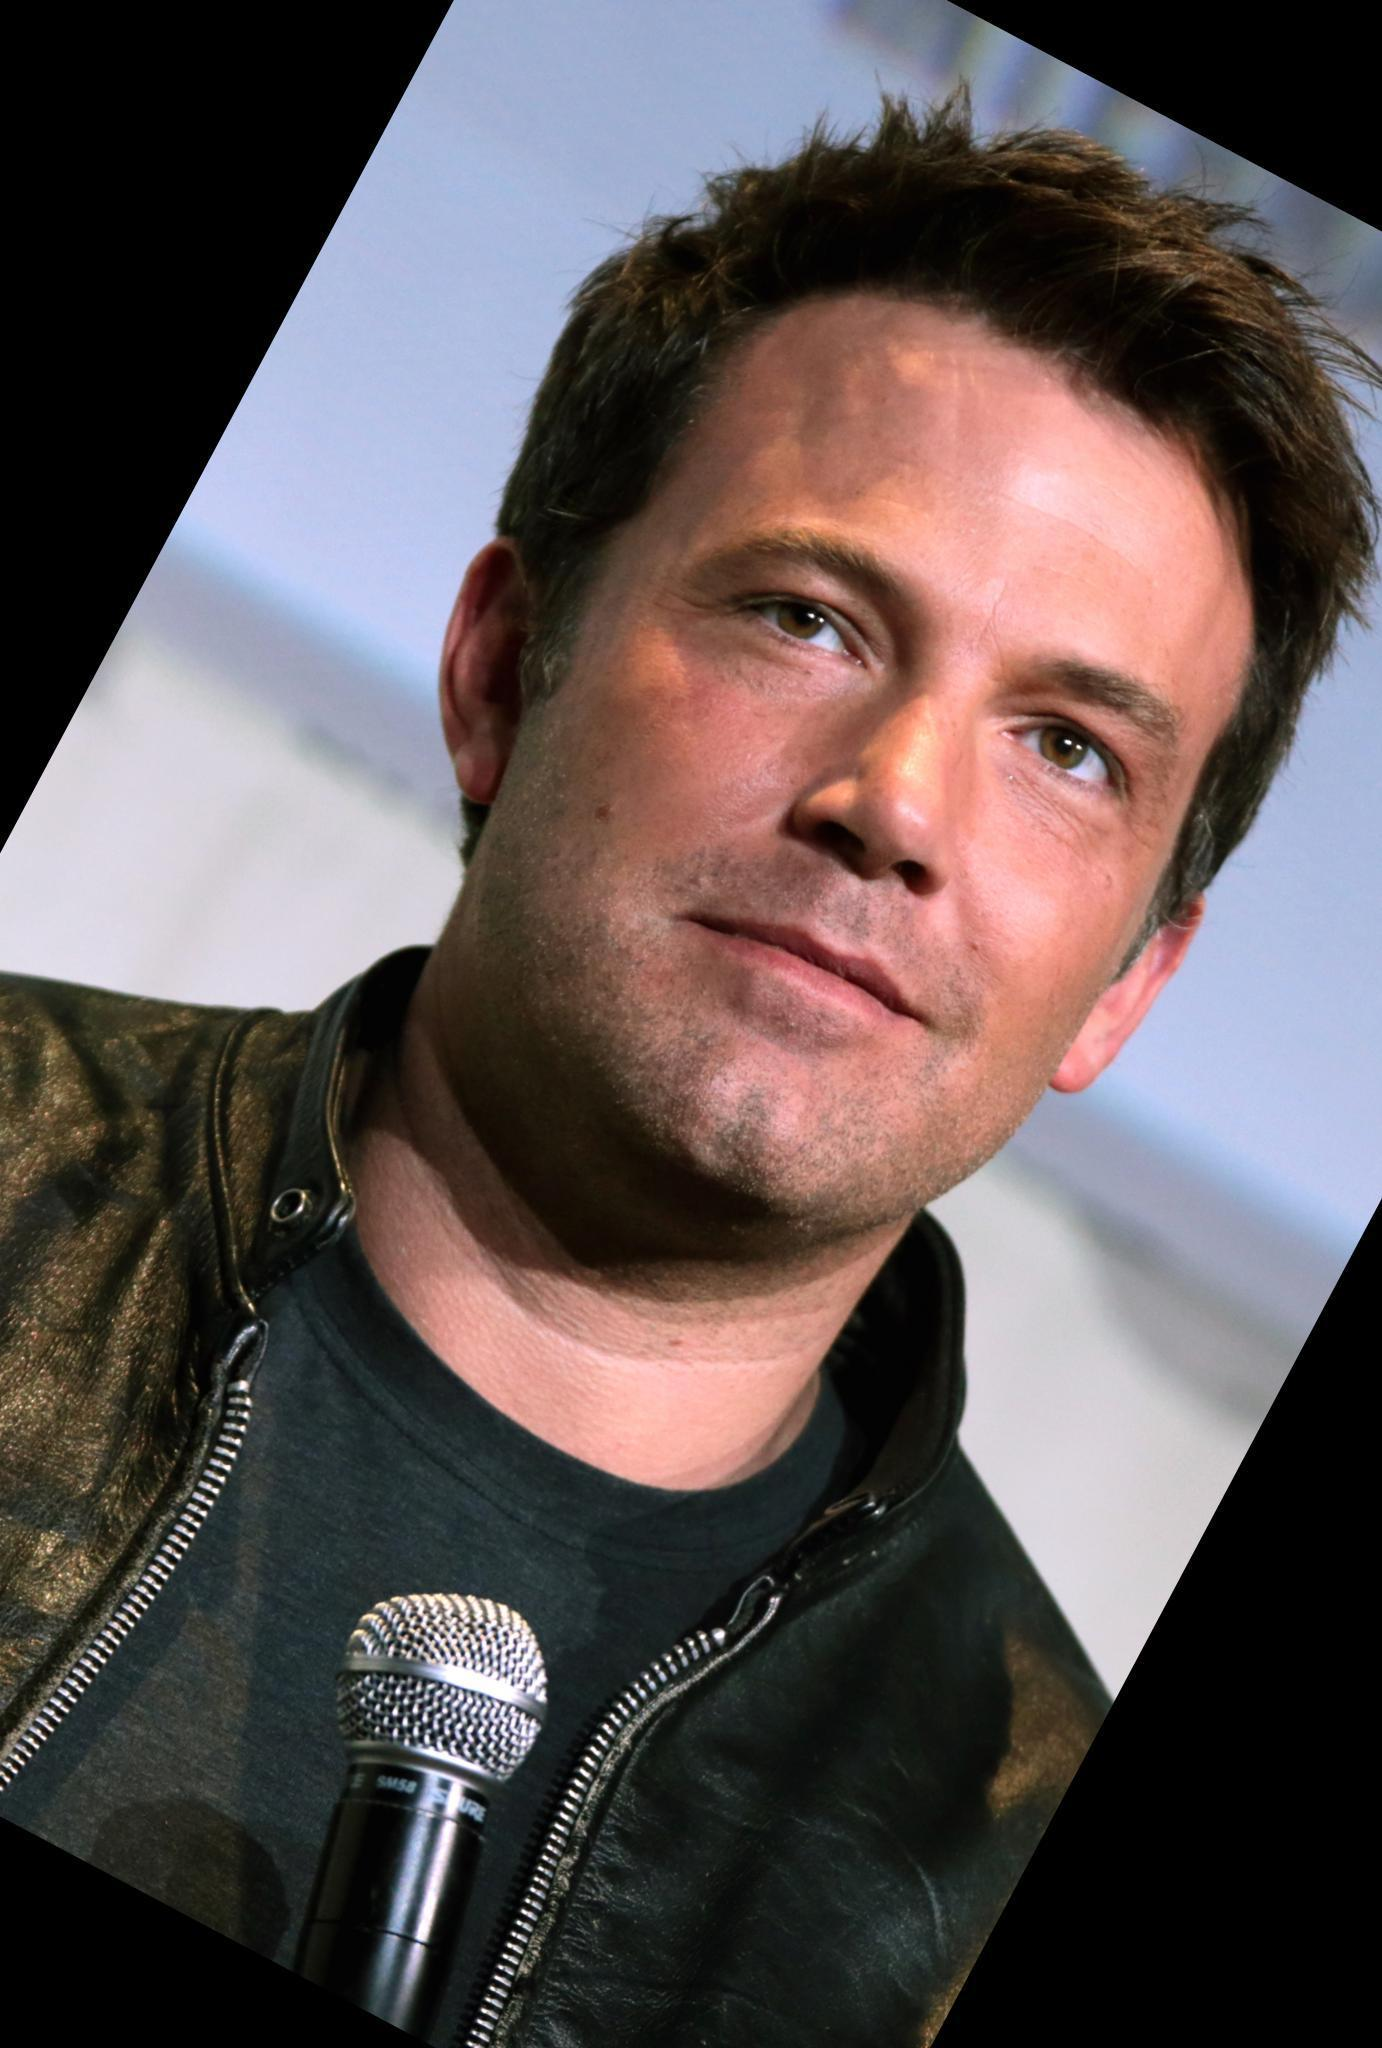Sober: (632, 321, 1208, 1181)
